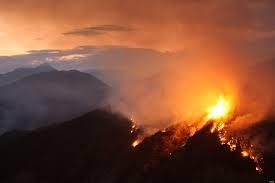fire: (199, 91, 235, 137)
